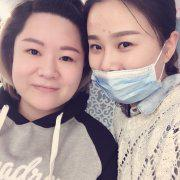NONE: (19, 38, 84, 109)
WRONG: (88, 30, 161, 103)
